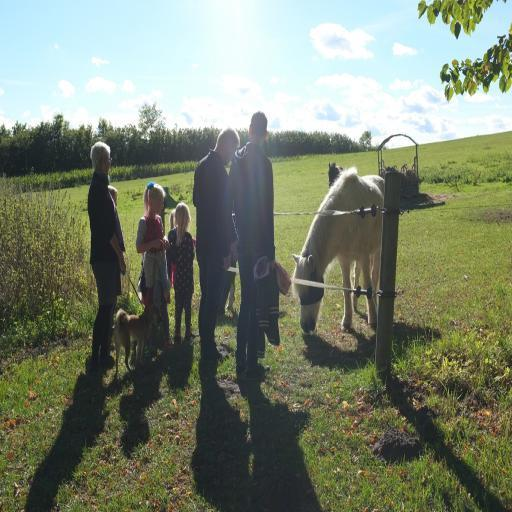horse: (294, 163, 394, 345)
